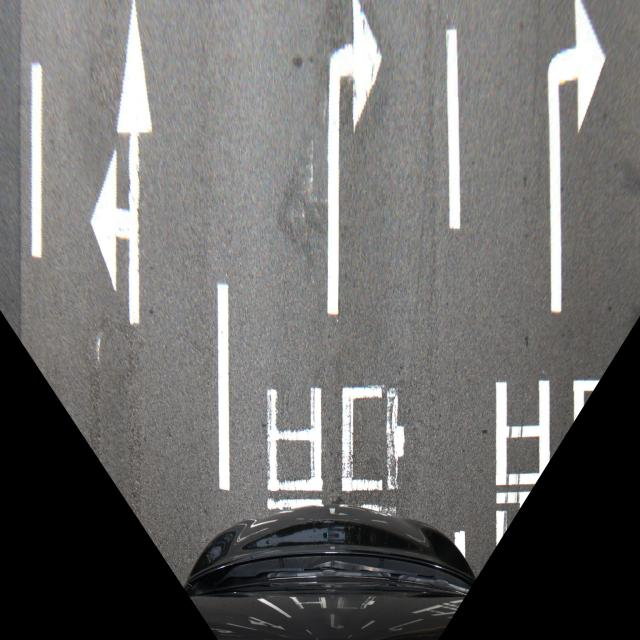right: (442, 0, 620, 329)
